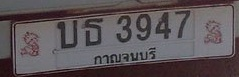txt19: (84, 17, 103, 47)
txt21: (56, 19, 79, 50)
